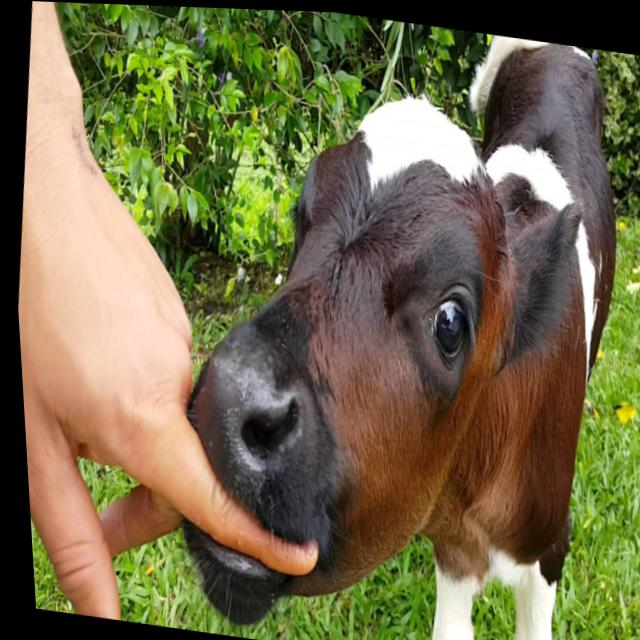cowFace: (154, 54, 545, 560)
